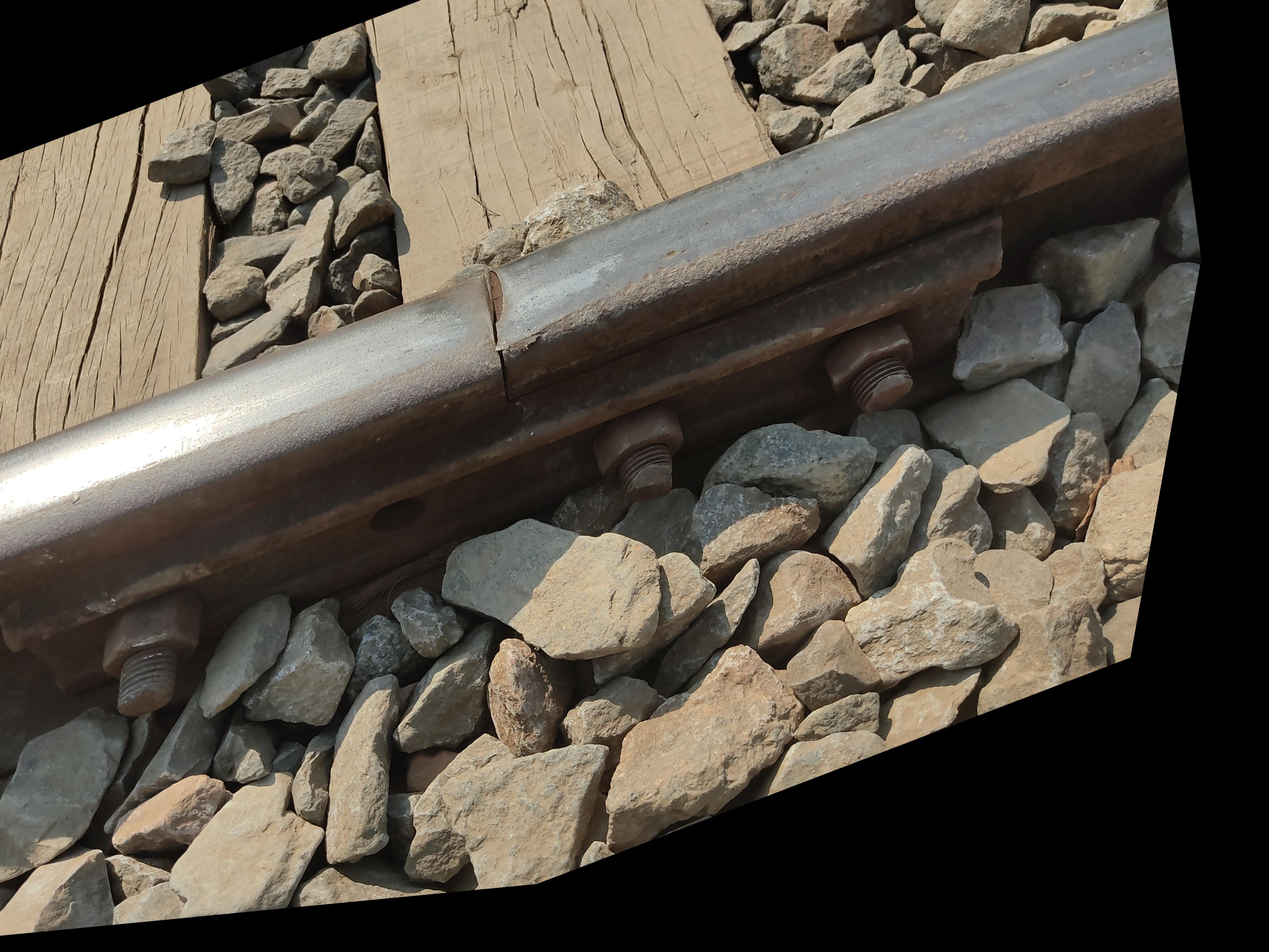person: (242, 421, 514, 673)
